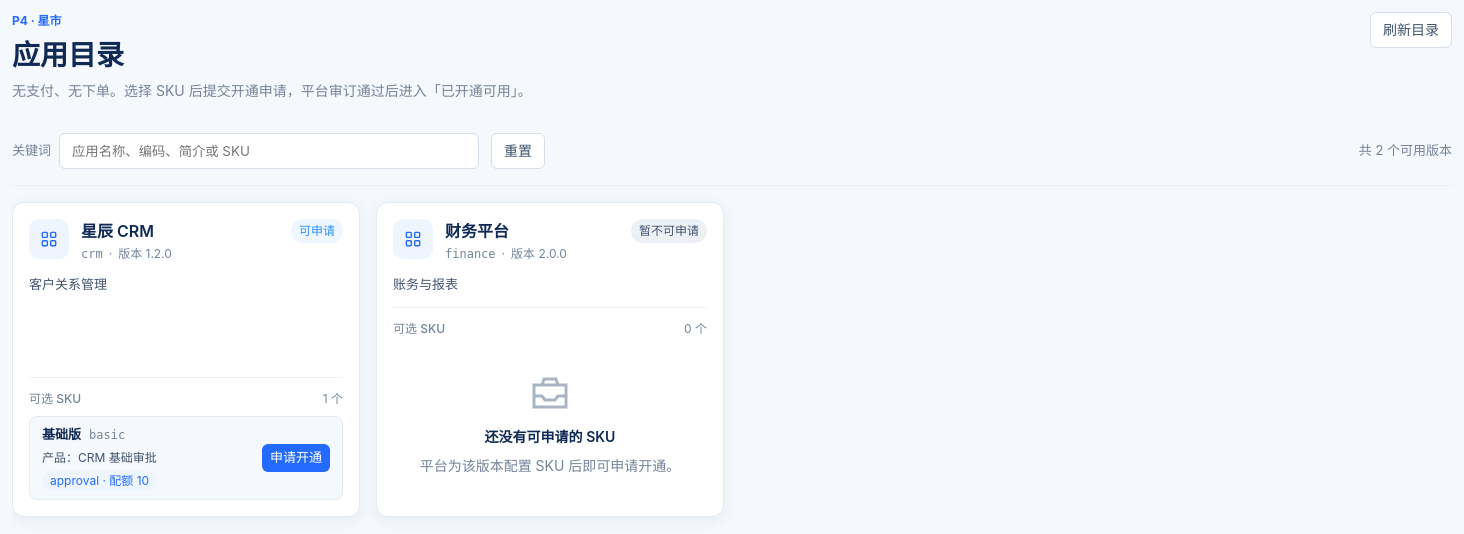
Test: P4 catalog V11 › renders published catalog cards and filters without category data
Expected: the element with test id "catalog-grid" shows "星辰 CRM", [81,221,154,241]
Expected: the elements with test id "catalog-card-badge" read "可申请", "暂不可申请", in this order, [291,219,343,243]; [631,219,707,243]
Type "BASIC" into the search field with test id "catalog-search" at (269, 151), box [59,133,479,169]
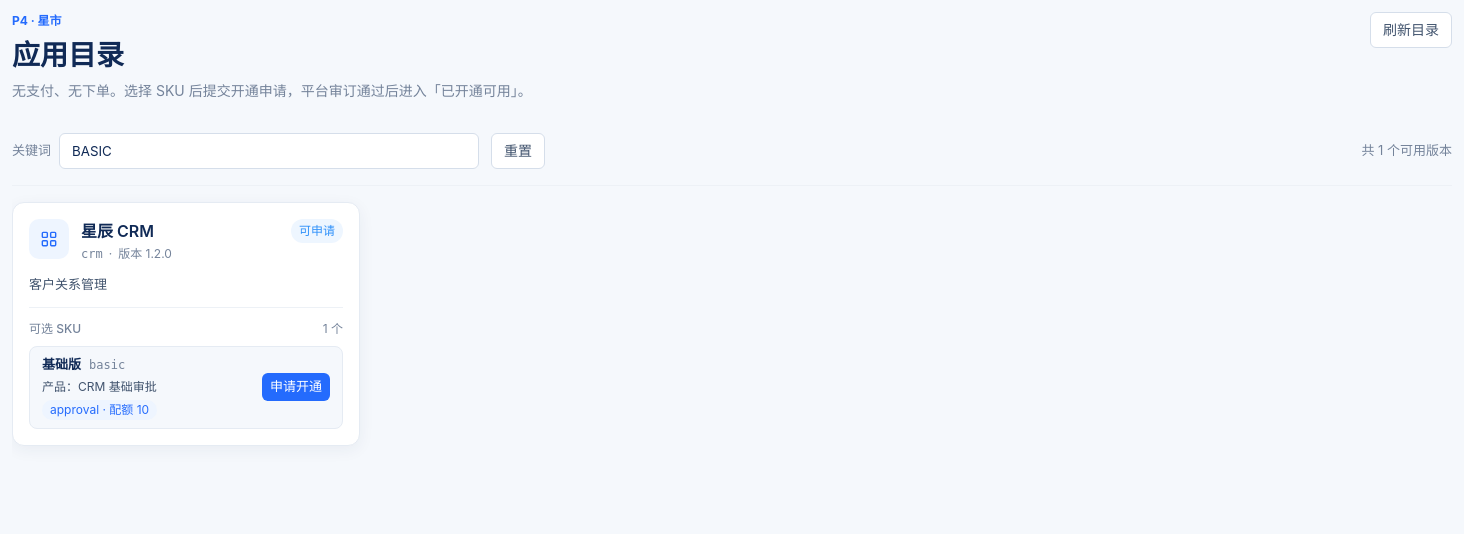
Expected: the element with test id "catalog-grid" shows "星辰 CRM", [81,221,154,241]
Now the heading with test id "catalog-grid" no longer shows "财务平台"
Now the text "1 个可用版本" is shown, box [1361,142,1452,158]
Click the button with test id "catalog-reset" at (518, 151), box [491,133,545,169]
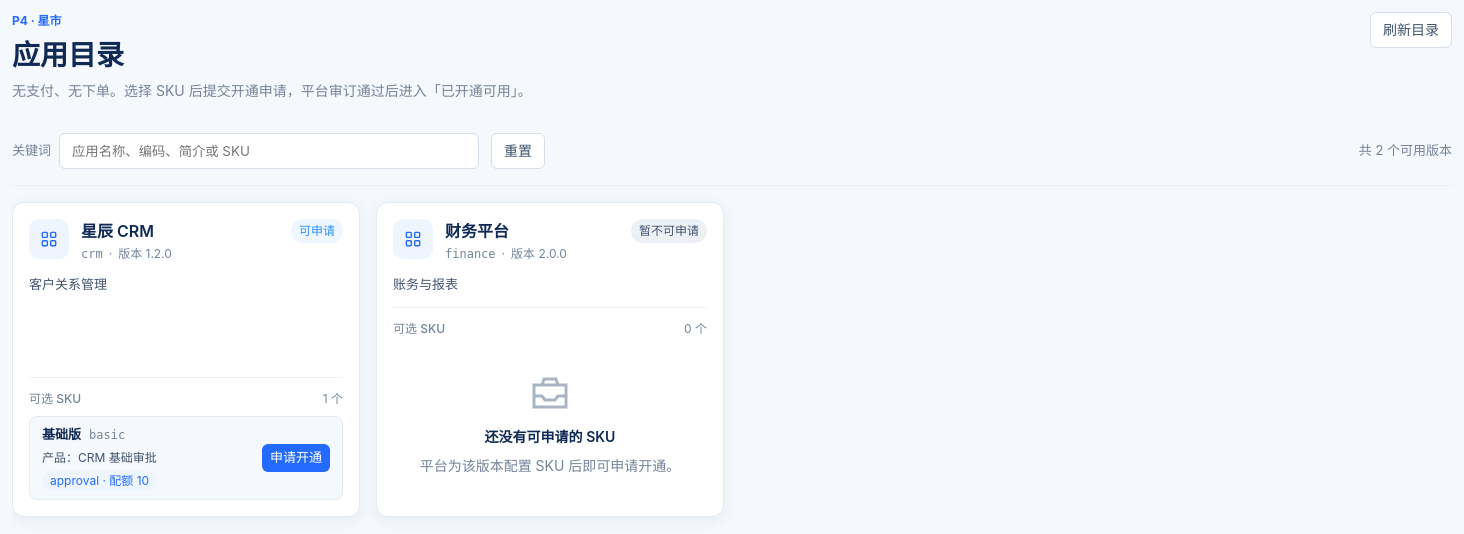
Now the element with test id "catalog-grid" shows "财务平台", box [445,221,509,241]
